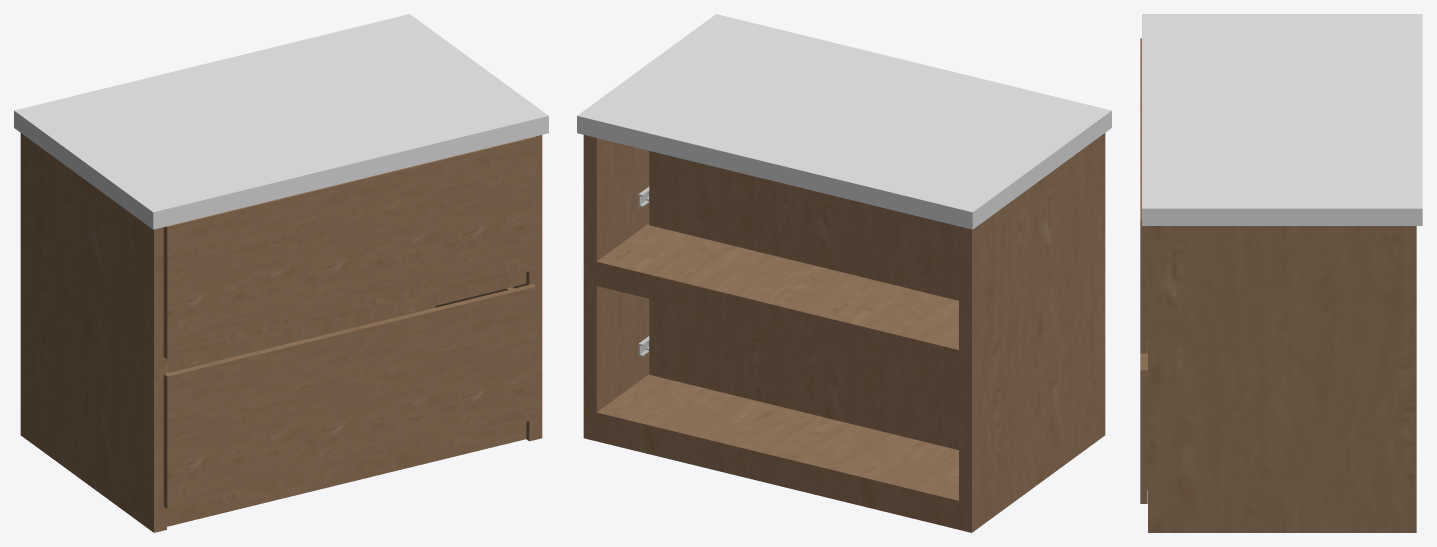
The model's file is vanity_modern_04.glb.
3 renders of one model, left to right at view 1: azimuth 30°, elevation 25°; view 2: azimuth 150°, elevation 25°; view 3: azimuth 270°, elevation 25°, orthographic.
Parts seen in each view (by area): view 1: BathroomVanity04, BathroomVanity04Drawer02, BathroomVanity04Drawer01; view 2: BathroomVanity04, BathroomVanity04Drawer02, BathroomVanity04Drawer01; view 3: BathroomVanity04, BathroomVanity04Drawer01, BathroomVanity04Drawer02.
Boxes of the visible parts, x1,y1,x2,y2 form: BathroomVanity04: (14, 14, 548, 532); BathroomVanity04Drawer02: (163, 284, 536, 508); BathroomVanity04Drawer01: (163, 136, 536, 359); BathroomVanity04: (577, 14, 1111, 532); BathroomVanity04Drawer02: (646, 299, 958, 449); BathroomVanity04Drawer01: (646, 151, 958, 300); BathroomVanity04: (1142, 14, 1422, 532); BathroomVanity04Drawer01: (1140, 38, 1147, 353); BathroomVanity04Drawer02: (1140, 339, 1147, 503).
Bounding box in the file's own units: 1.19 × 0.9314 × 0.7302.
1 material, 1 textured.
